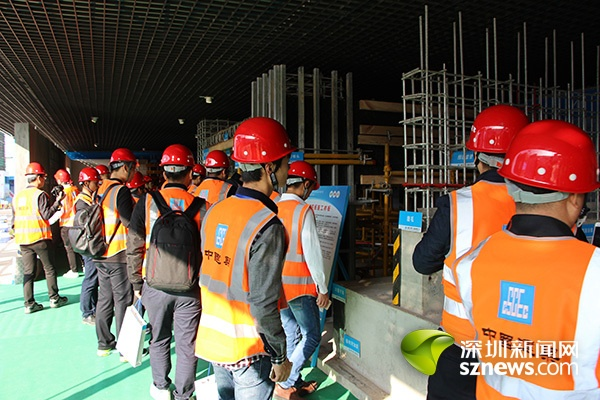red: (504, 119, 596, 228), (232, 117, 291, 191), (466, 103, 527, 173), (284, 159, 320, 201), (157, 143, 191, 185), (108, 148, 136, 183), (205, 149, 230, 179), (24, 159, 48, 190), (78, 167, 101, 196), (53, 167, 70, 186)
